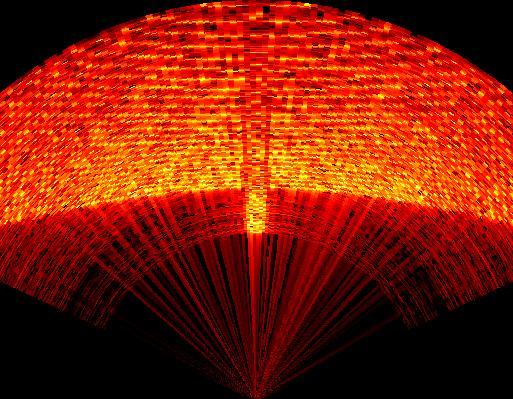pipe: (242, 3, 272, 232)
